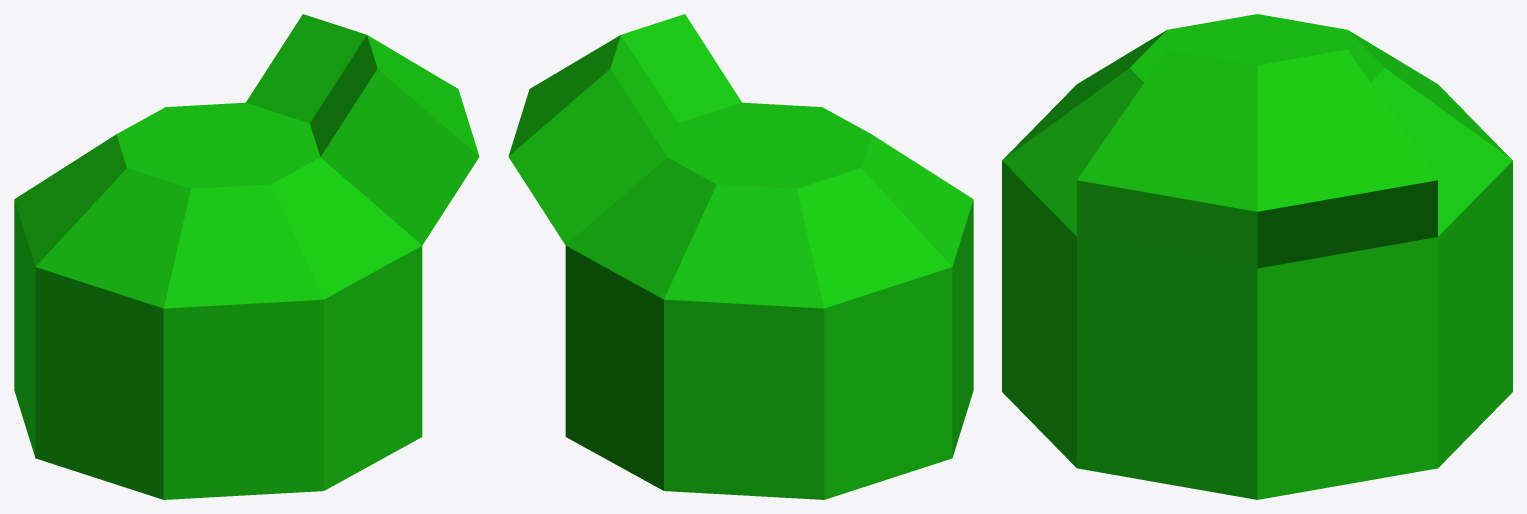
The model's file is outpost_model.obj.
3 views of the same model, side by side, from view 1: azimuth 30°, elevation 25°; view 2: azimuth 150°, elevation 25°; view 3: azimuth 270°, elevation 25° (orthographic). The views are drawn at different scales.
Visible parts, largest first — view 1: Cylinder; view 2: Cylinder; view 3: Cylinder.
Boxes of the visible parts, <box> form: Cylinder: <box>14,14,479,499</box>; Cylinder: <box>508,14,973,499</box>; Cylinder: <box>1002,14,1512,499</box>.
Size of the model in its own units: 2.31 by 1.79 by 2.
